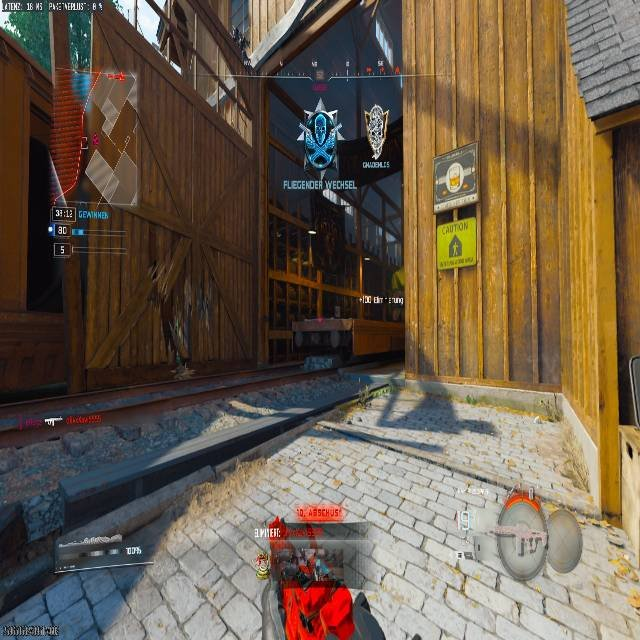head: (496, 500, 549, 578)
player: (252, 527, 395, 640)
